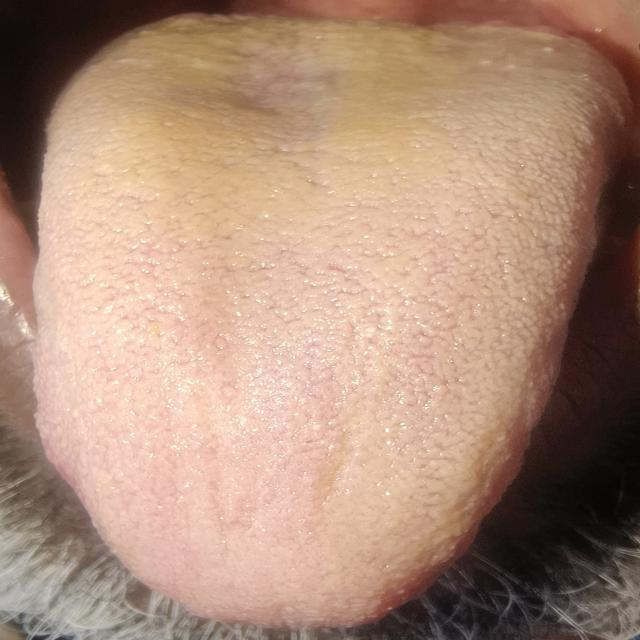leukoplakia-like-detection: (47, 11, 603, 256)
processing_area: (32, 6, 598, 616)
